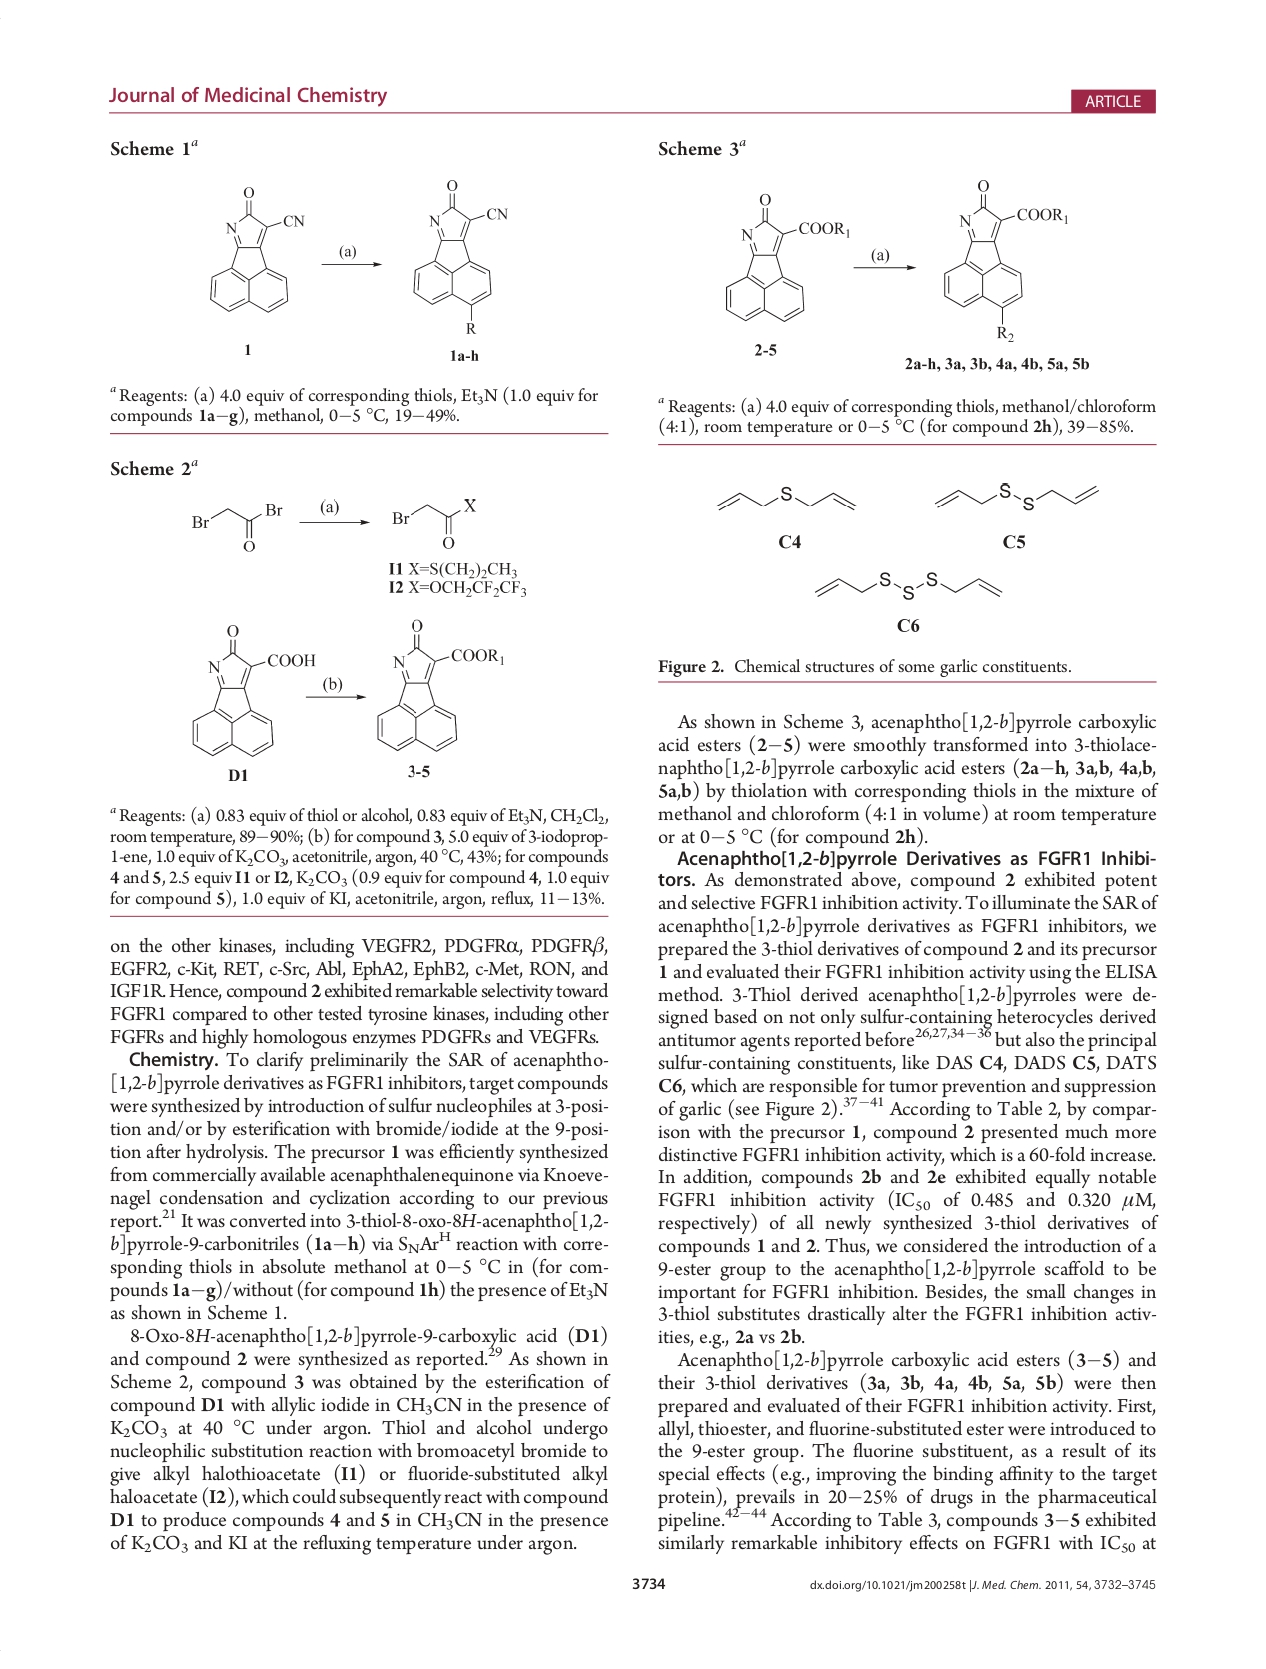exist_molecular: (939, 177, 1072, 344), (371, 614, 507, 755), (186, 618, 319, 761), (719, 189, 852, 324), (408, 174, 513, 336), (207, 184, 309, 315), (810, 563, 1005, 608), (930, 477, 1100, 517), (386, 489, 483, 553), (189, 495, 286, 555), (715, 477, 856, 517)
